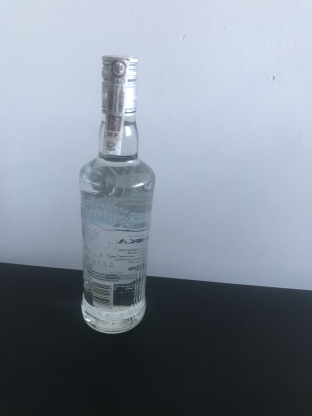nakretka: (98, 52, 139, 118)
